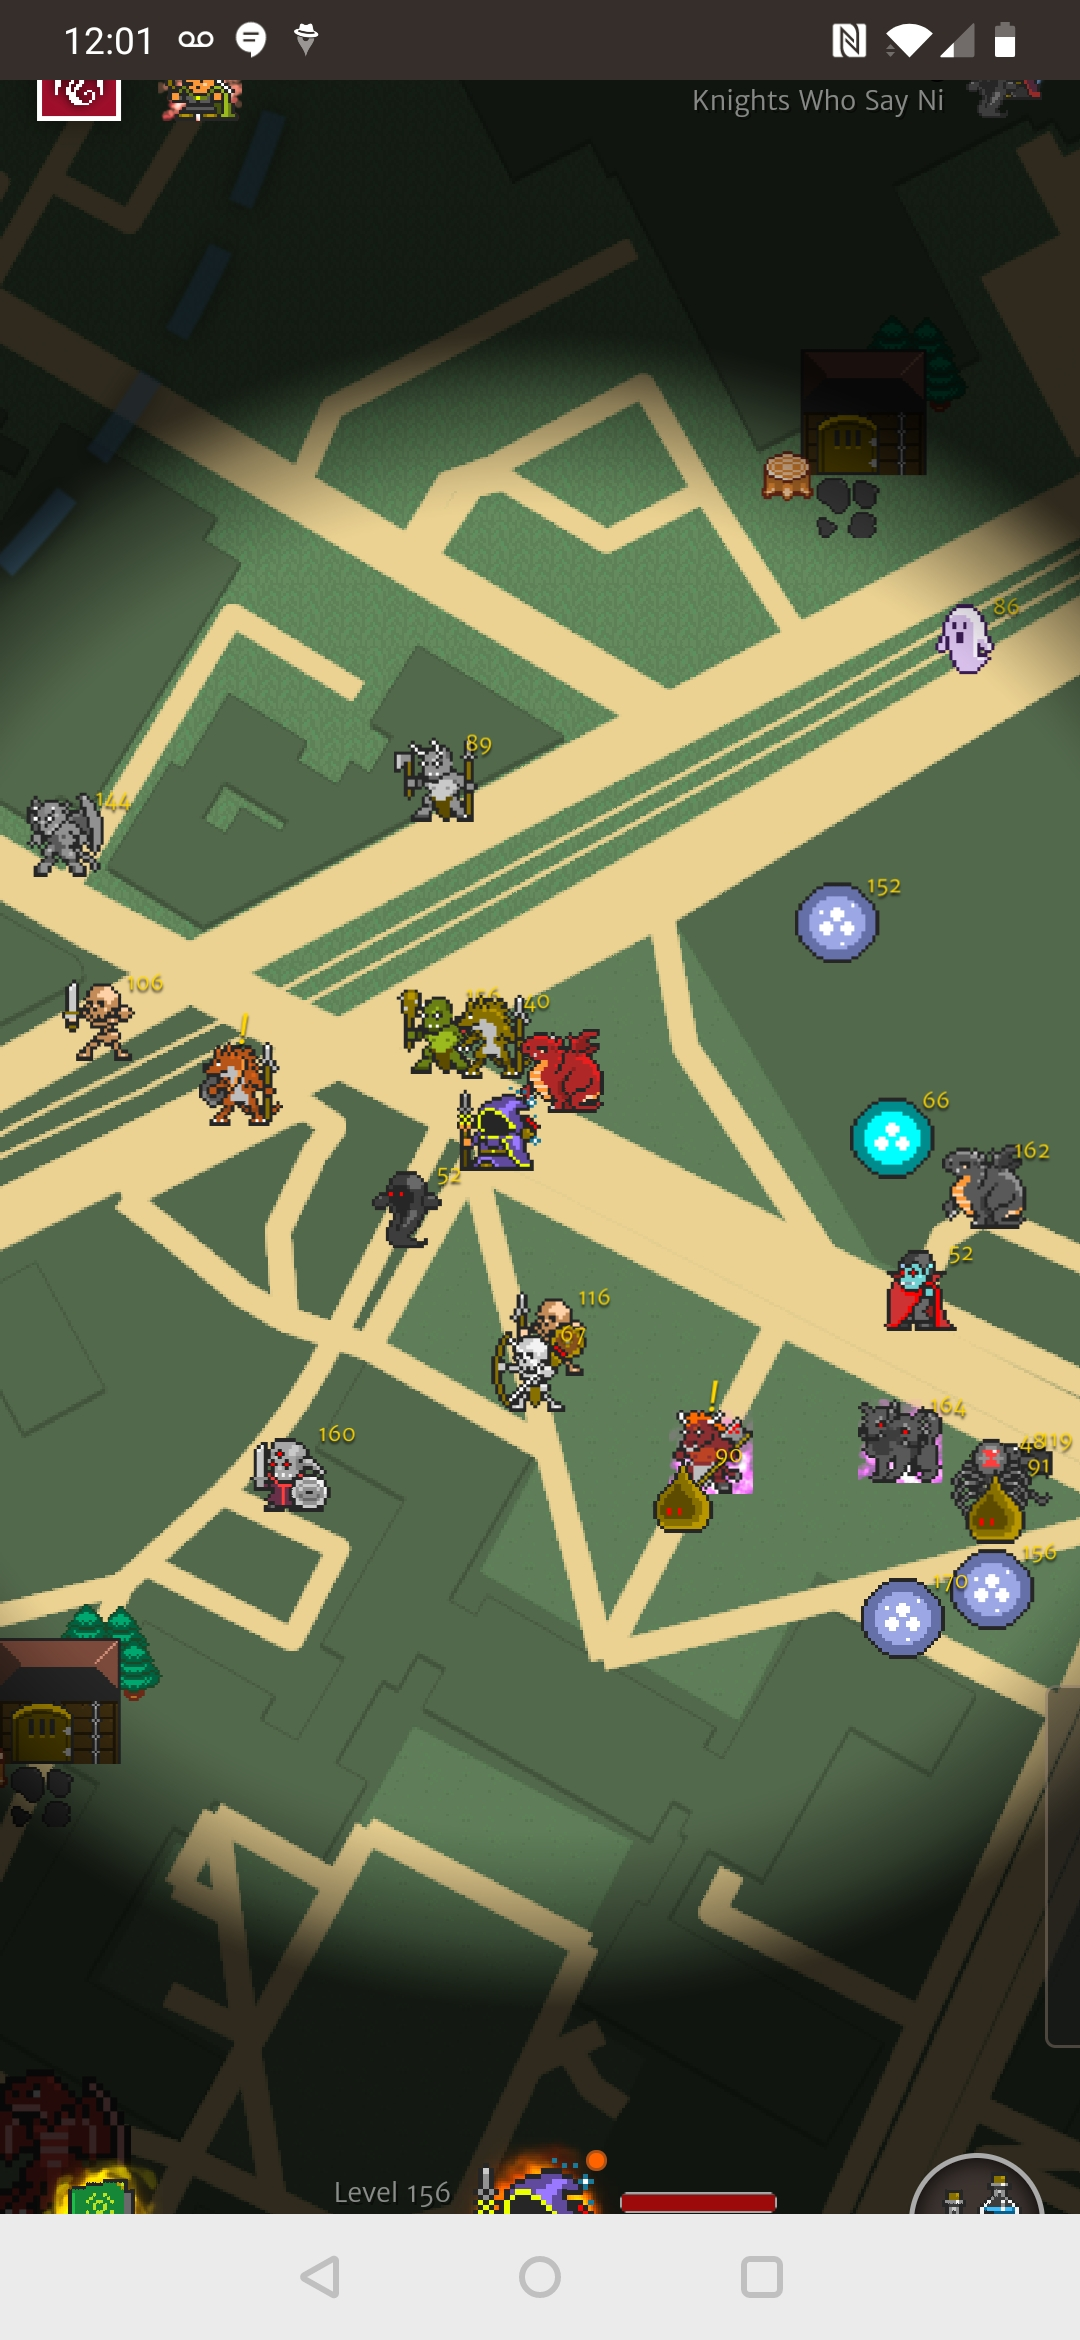monster: (774, 858, 922, 992), (391, 723, 526, 854), (184, 1037, 308, 1154), (15, 775, 139, 889), (243, 1420, 377, 1527), (46, 968, 167, 1085), (943, 1140, 1063, 1240), (919, 589, 1032, 696), (867, 1244, 995, 1337), (836, 1085, 957, 1182), (374, 1161, 470, 1268), (663, 1406, 770, 1499)
player: (450, 1085, 550, 1189)
